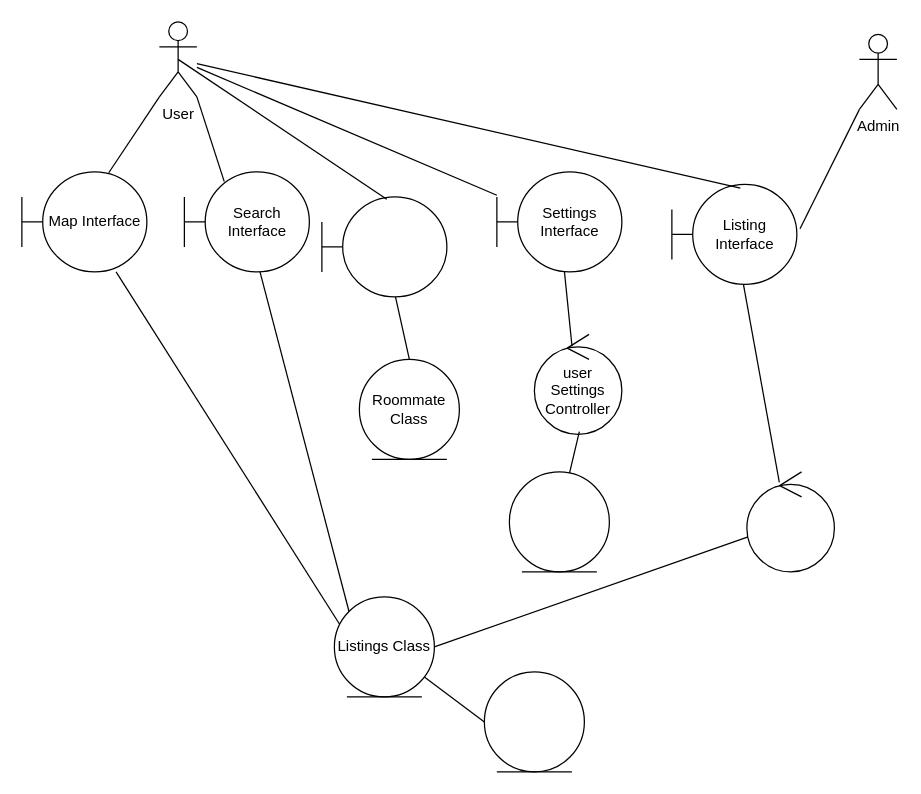
This 921x794 diagram has some shape labels left out. Each missing label, with the centre of its shape:
"Listing Controller" belongs at point (790, 521).
"Property Class" belongs at point (533, 721).
"Roommate Interface" belongs at point (384, 246).
"Settings Class" belongs at point (558, 521).
